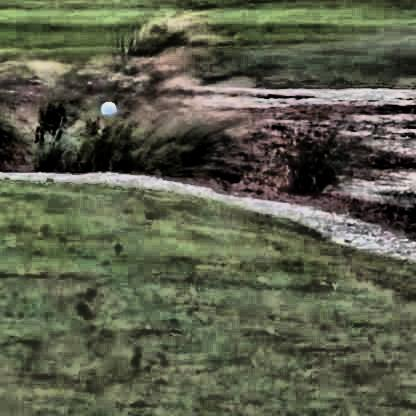golfball: (99, 98, 115, 114)
